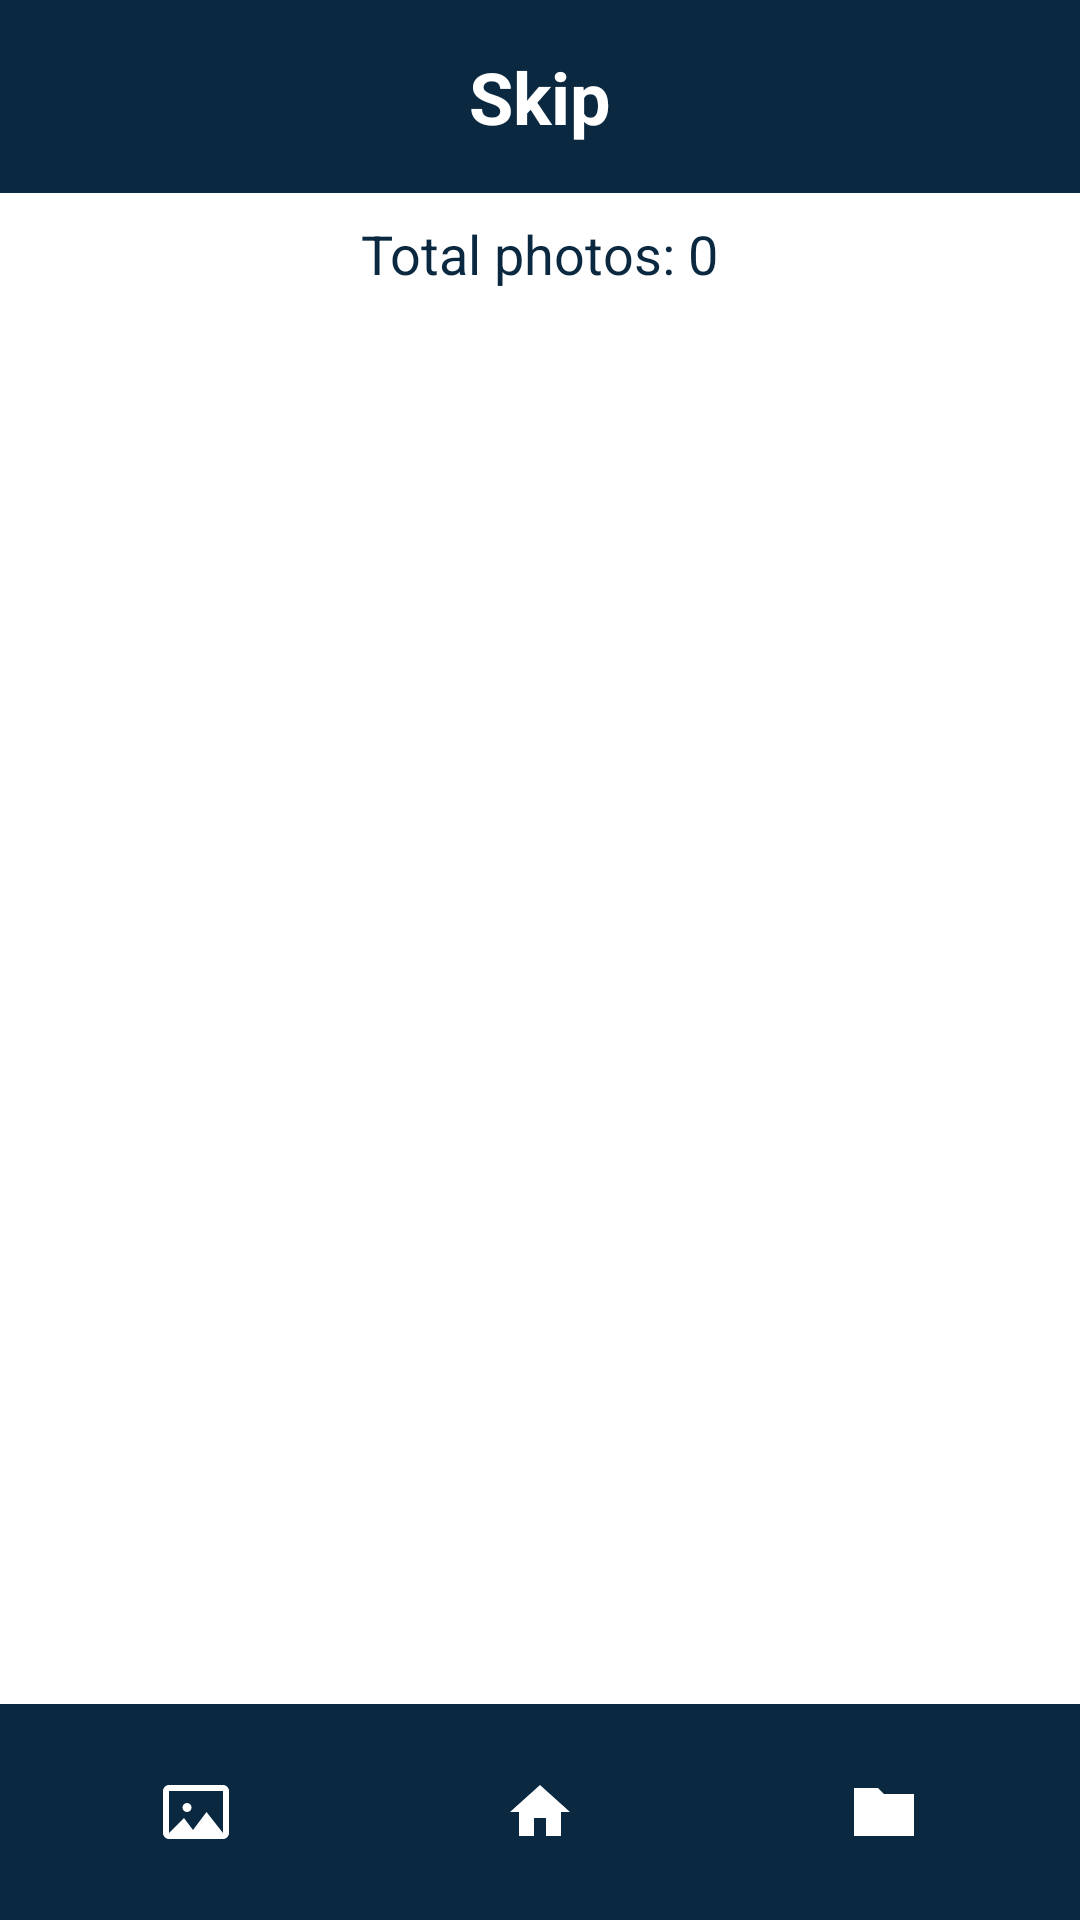

Named icons in this screenshot (1080w x 1920h) and their bounding boxes, rect(x1, y1, x2, y2):
Go to Home: rect(510, 1785, 570, 1836)
Open Gallery: rect(163, 1785, 229, 1839)
